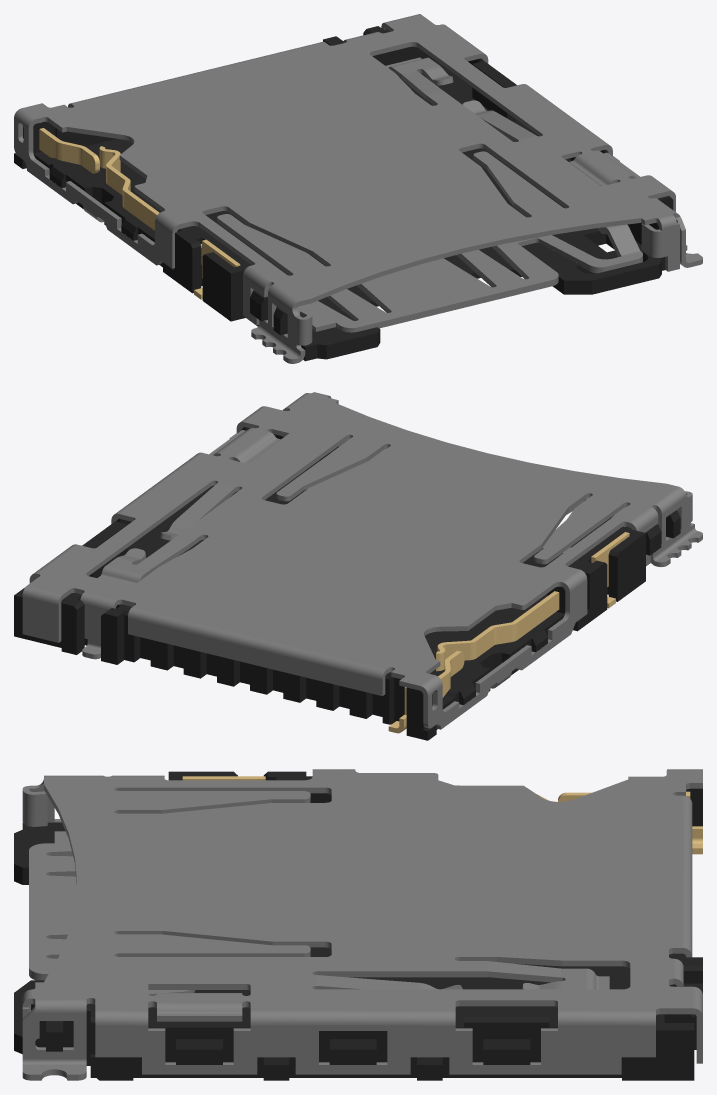
File: kc-microsd_hc_hirose_dm3at-sf-pejm5.glb
The picture shows the model from 3 angles, top to bottom: view 1: azimuth 30°, elevation 25°; view 2: azimuth 150°, elevation 25°; view 3: azimuth 270°, elevation 25°; orthographic projection. The views are drawn at different scales.
Parts seen in each view (by area): view 1: 0.25_0.25_0.25_0, 0_0_0_0, 0.75_0.5_0.25_0.9; view 2: 0.25_0.25_0.25_0, 0_0_0_0, 0.75_0.5_0.25_0.9; view 3: 0.25_0.25_0.25_0, 0_0_0_0, 0.75_0.5_0.25_0.9.
Boxes of the visible parts, left/top/right/bottom form: 0.25_0.25_0.25_0: left=14, top=14, right=702, bottom=363; 0_0_0_0: left=14, top=26, right=677, bottom=361; 0.75_0.5_0.25_0.9: left=39, top=128, right=240, bottom=299; 0.25_0.25_0.25_0: left=22, top=392, right=702, bottom=729; 0_0_0_0: left=14, top=427, right=680, bottom=740; 0.75_0.5_0.25_0.9: left=388, top=532, right=629, bottom=733; 0.25_0.25_0.25_0: left=22, top=769, right=702, bottom=1080; 0_0_0_0: left=14, top=771, right=702, bottom=1080; 0.75_0.5_0.25_0.9: left=182, top=776, right=702, bottom=854.
Bounding box in the file's own units: 1.39 × 0.168 × 1.62.
